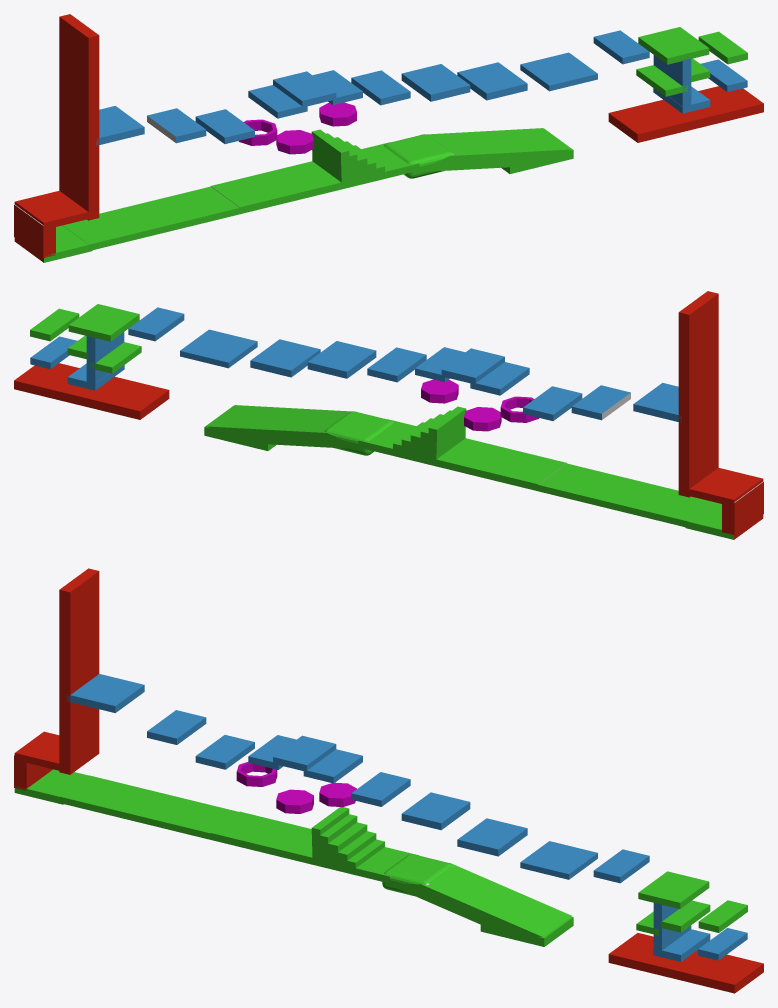
File: stage.obj
The picture shows the model from 3 angles, top to bottom: view 1: azimuth 30°, elevation 25°; view 2: azimuth 150°, elevation 25°; view 3: azimuth 330°, elevation 25°; orthographic projection.
Size of the model in its own units: 2853 by 904 by 200.
